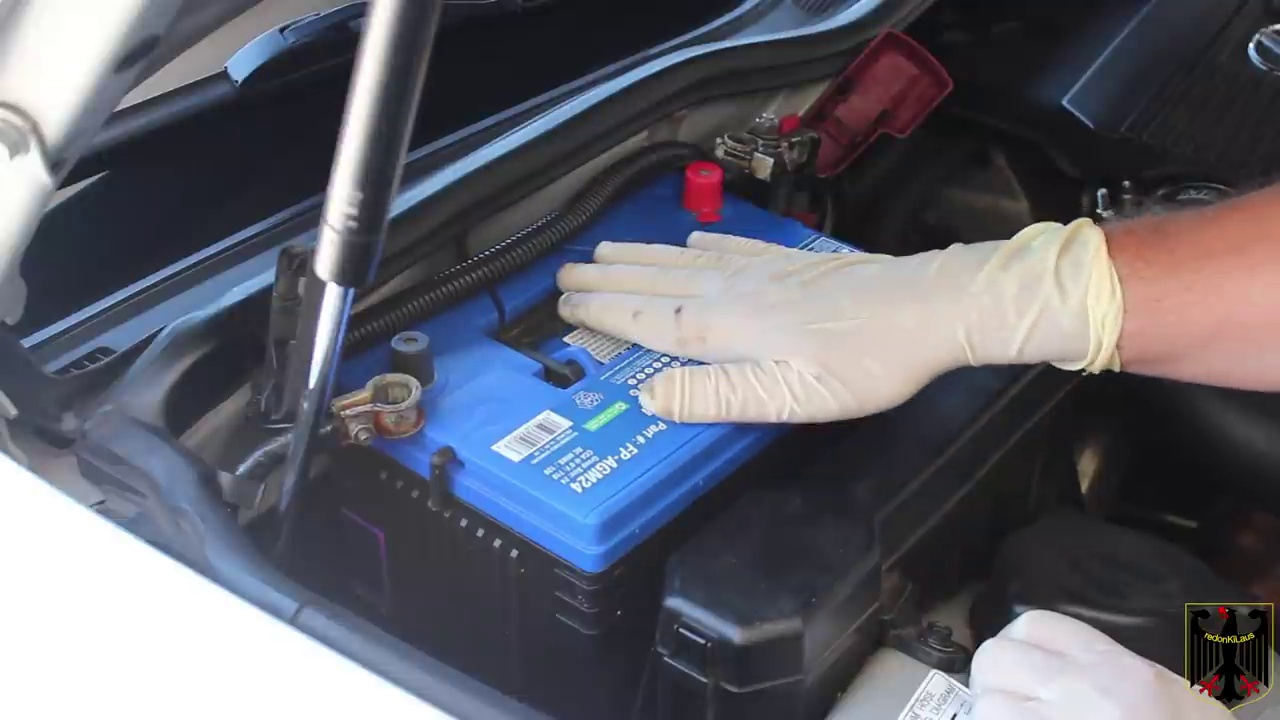battery: (317, 151, 900, 519)
pos_disconnected: (674, 67, 927, 226)
